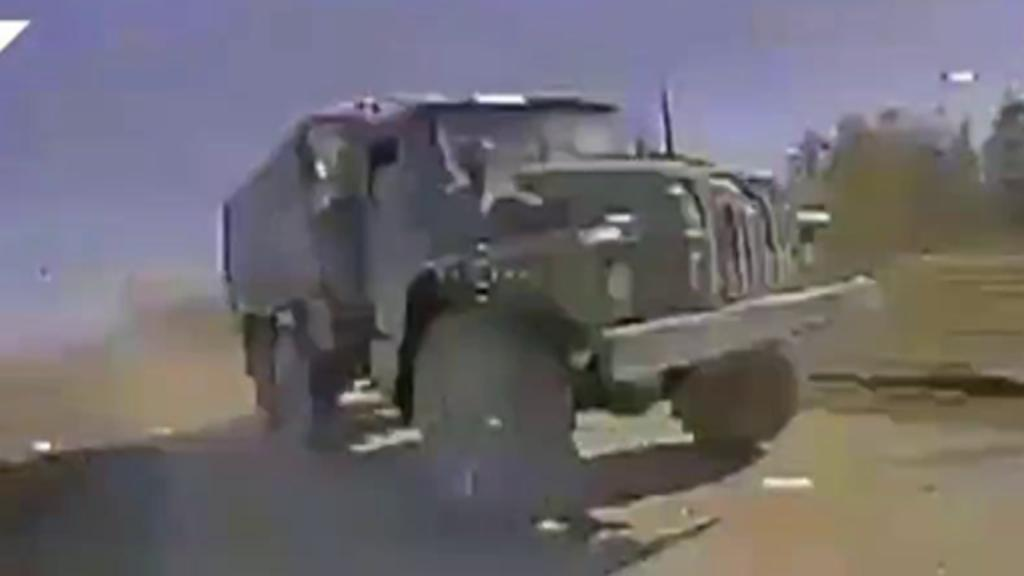TRUCK: (202, 81, 882, 516)
